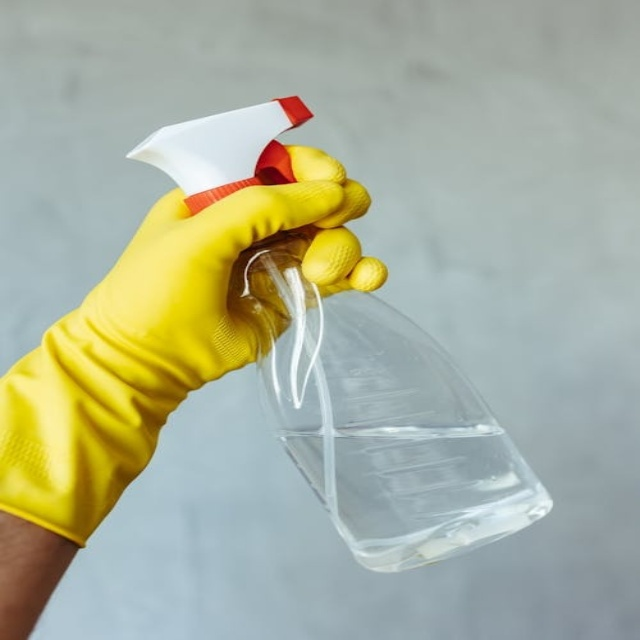Guantes: (2, 146, 380, 545)
